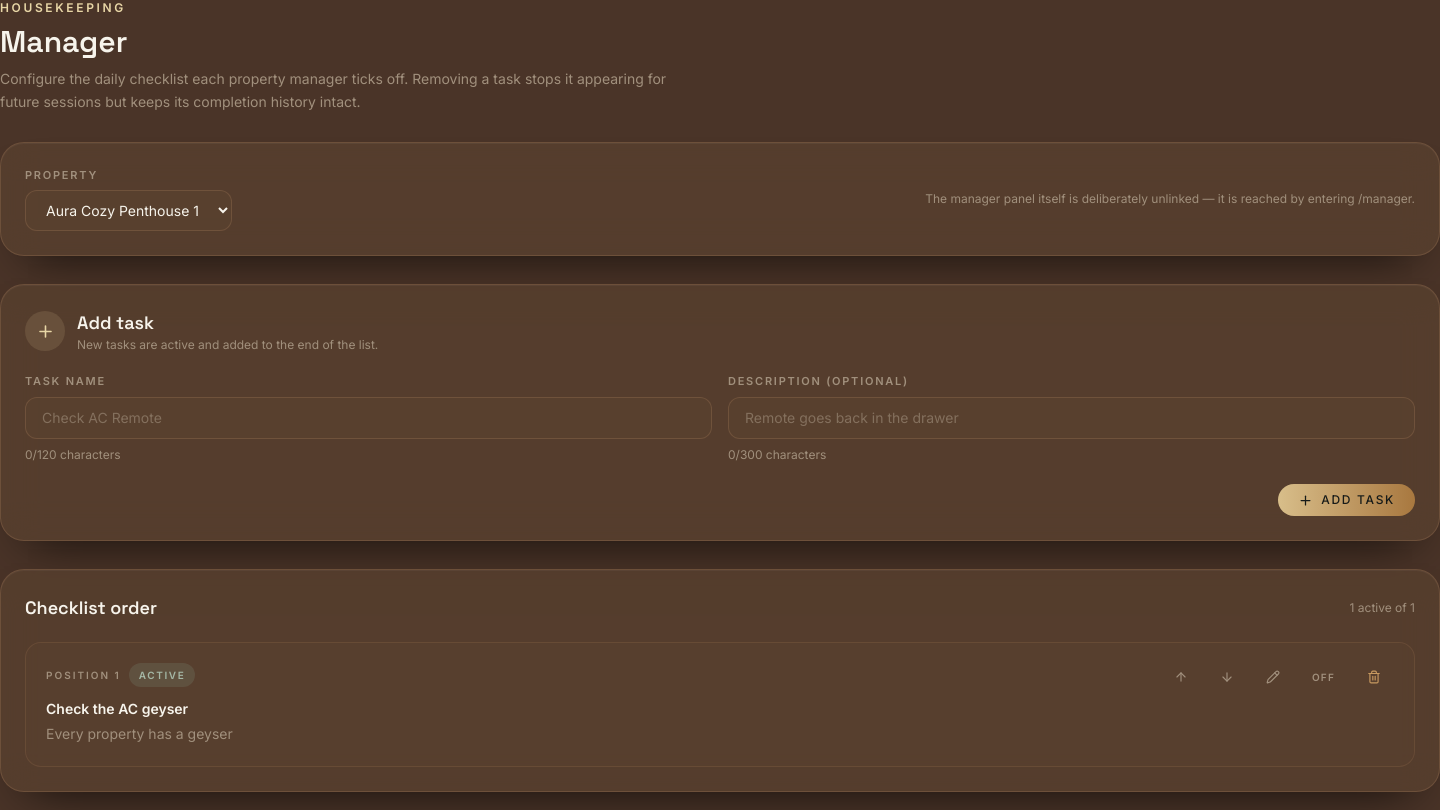
Test: ManagerTab › adds a task to the selected property, trimmed and active
This screenshot has width=1440, height=810.
Expected: the text "Check the AC geyser" is shown, [46,700,188,717]
Type "  Replace the bathroom soap  " into the field labelled "Task name" at (368,418), box [25,397,712,439]
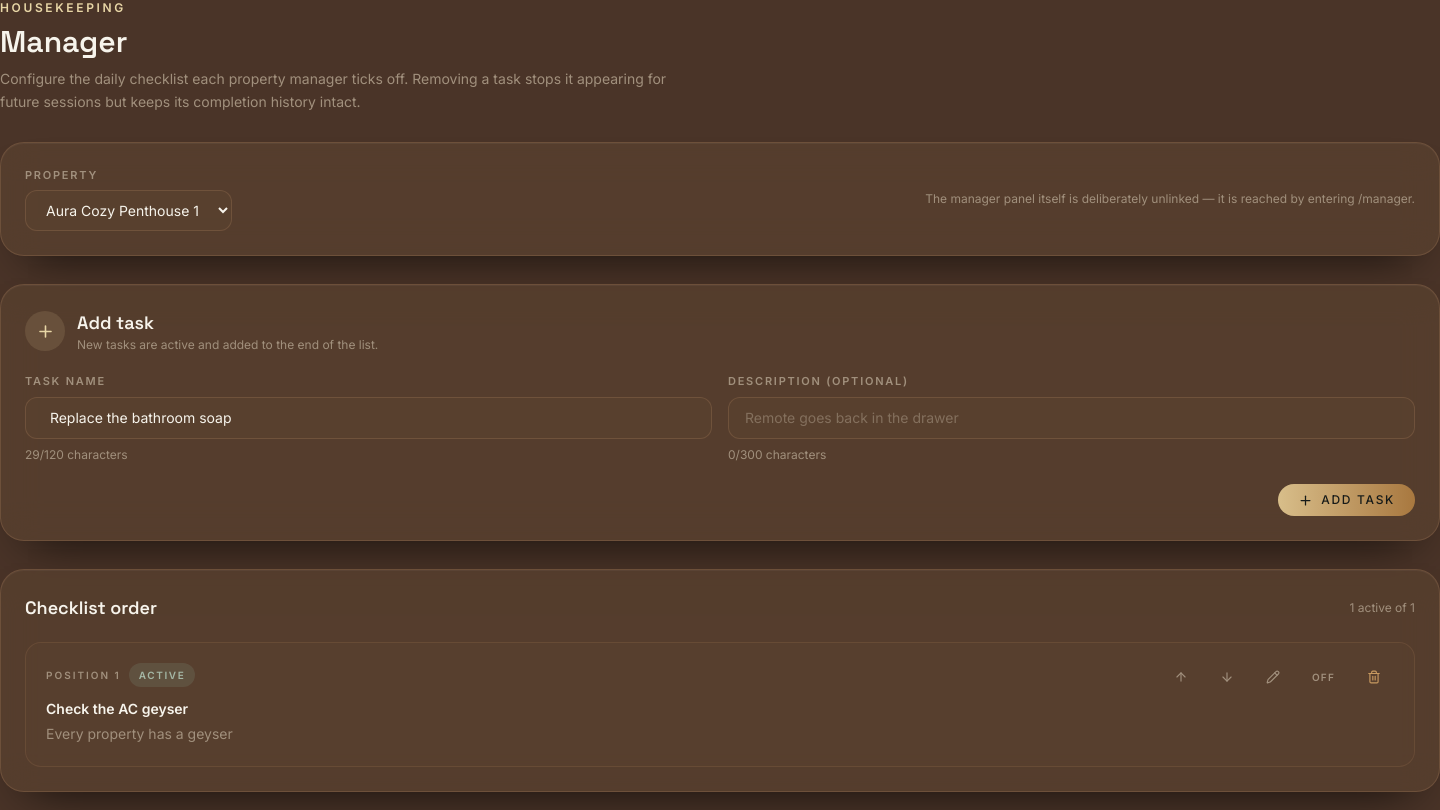
Type "  Restocked monthly  " into the field named "Task description" at (1072,418), box [728,397,1415,439]
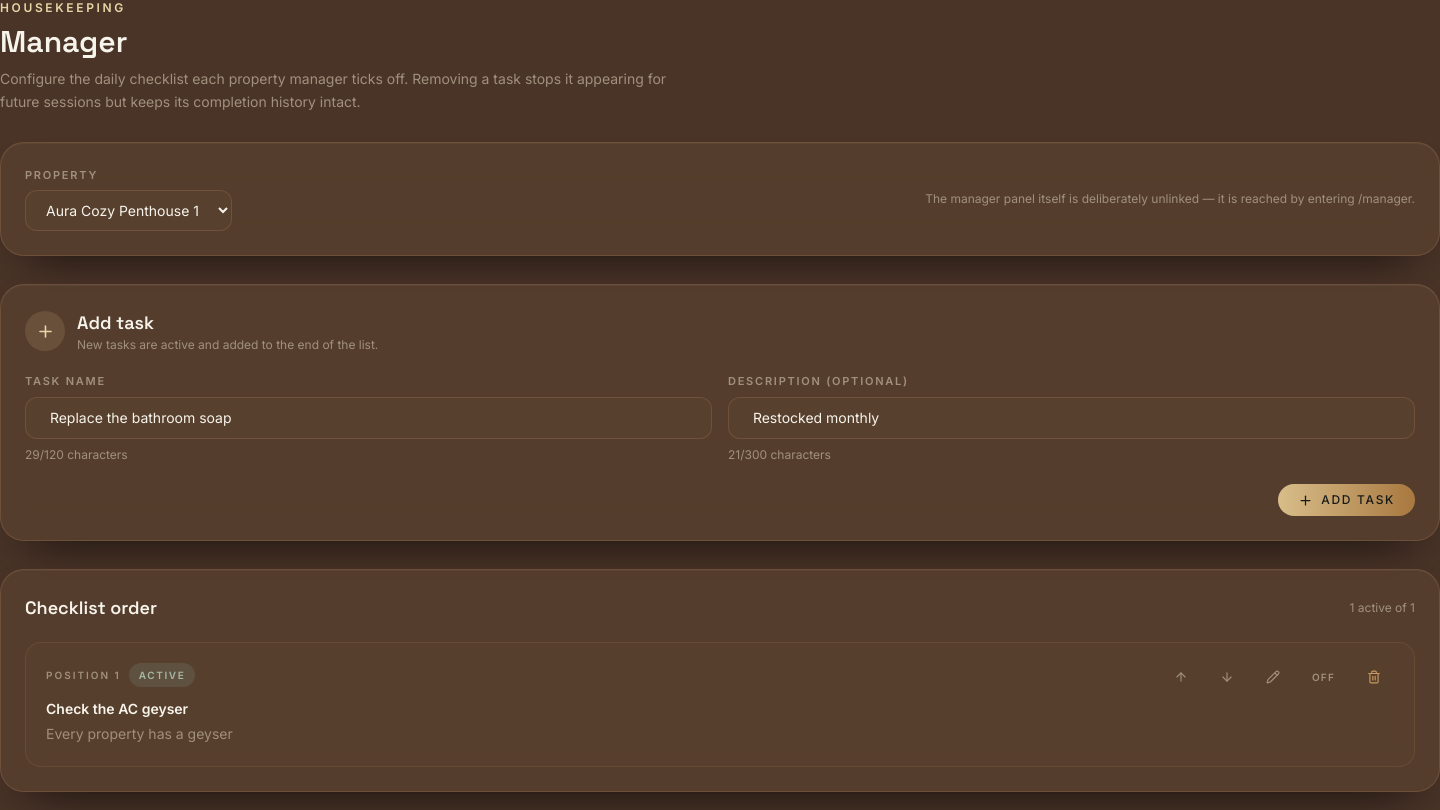
Click the button "Add task" at (1347,500), box [1278,484,1415,516]
(page scrolled)
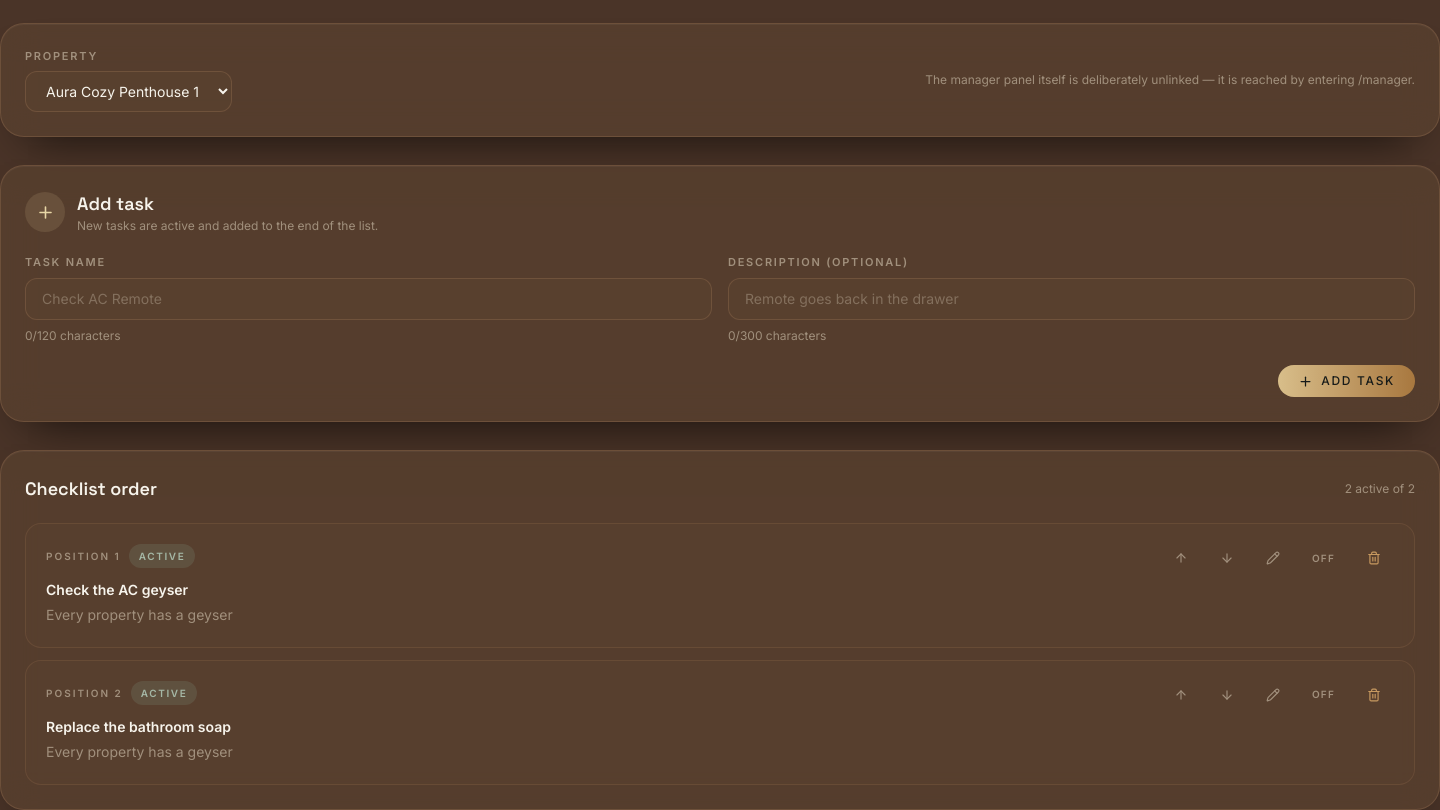
Expected: the text "Replace the bathroom soap" is shown, [46,718,231,735]
